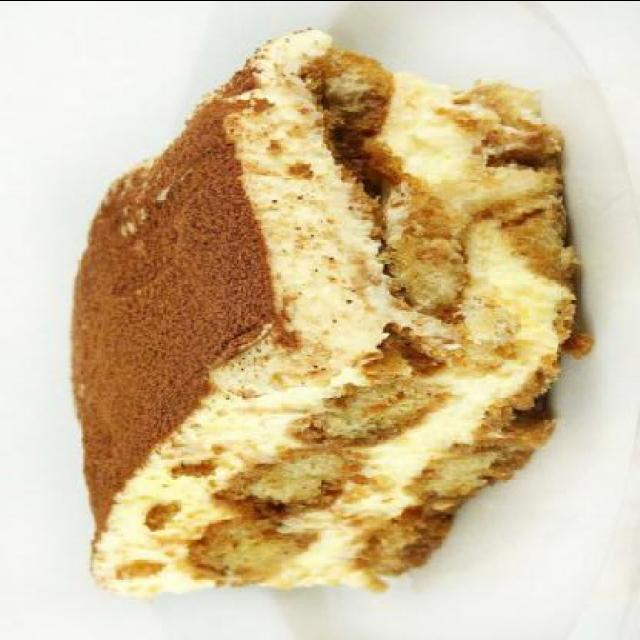Tiramisu: (67, 41, 591, 588)
